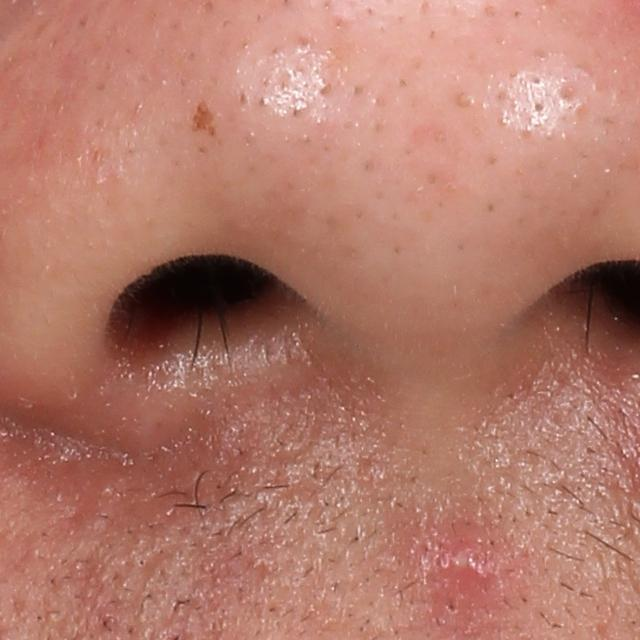comedo: (455, 87, 477, 112)
nevus: (190, 105, 215, 130)
